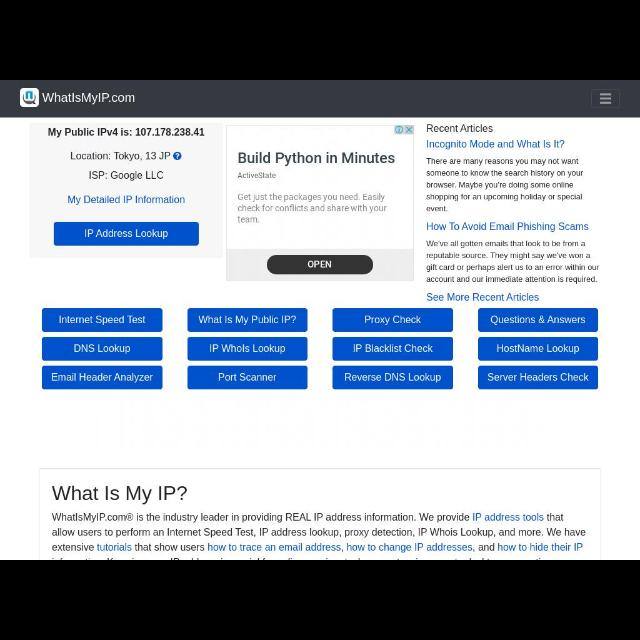button: (590, 88, 620, 108)
icon: (596, 92, 614, 104)
iframe: (224, 126, 414, 280)
image: (17, 86, 39, 108)
text: (50, 511, 592, 555), (424, 158, 586, 212), (426, 239, 600, 283), (52, 482, 188, 504), (425, 221, 591, 235), (46, 127, 206, 139), (67, 192, 189, 205), (426, 138, 568, 148), (344, 370, 441, 384), (66, 150, 172, 162), (49, 370, 153, 382), (196, 313, 298, 325), (496, 342, 582, 356), (42, 91, 136, 103), (428, 292, 540, 302), (58, 314, 146, 326), (488, 316, 586, 326), (208, 342, 286, 354), (82, 228, 170, 238), (424, 122, 496, 134), (352, 344, 434, 354), (88, 170, 164, 180), (72, 342, 132, 354), (486, 374, 588, 381), (216, 372, 276, 383), (363, 316, 422, 326)
textbutton: (54, 222, 200, 246), (40, 308, 164, 334), (332, 366, 453, 390), (478, 366, 598, 390), (333, 336, 452, 360), (188, 308, 306, 332), (479, 308, 597, 332), (188, 336, 308, 359), (41, 338, 163, 360), (332, 308, 453, 330), (42, 367, 162, 389), (188, 366, 308, 388), (478, 337, 598, 359)
toolbar: (0, 81, 638, 117)
